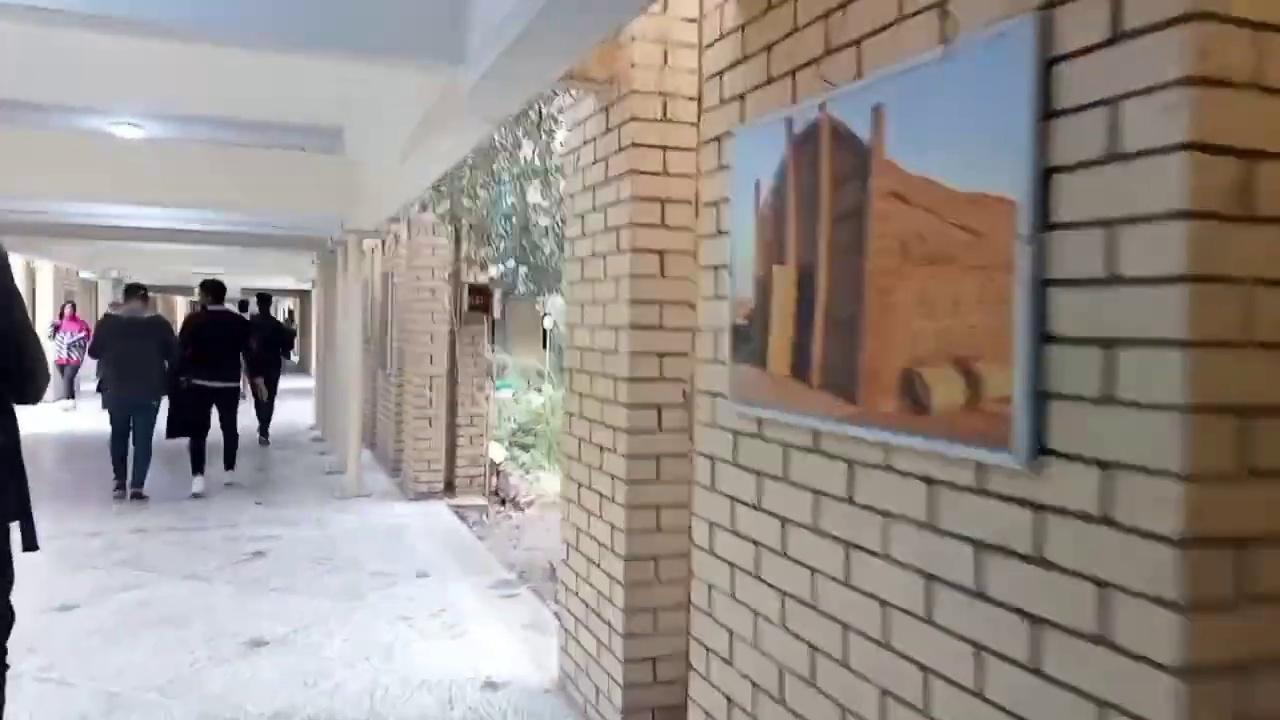person: (0, 241, 50, 716), (87, 281, 179, 500), (172, 277, 261, 497), (244, 291, 296, 445), (46, 300, 91, 410), (236, 298, 251, 401)
tree: (406, 83, 579, 482)
